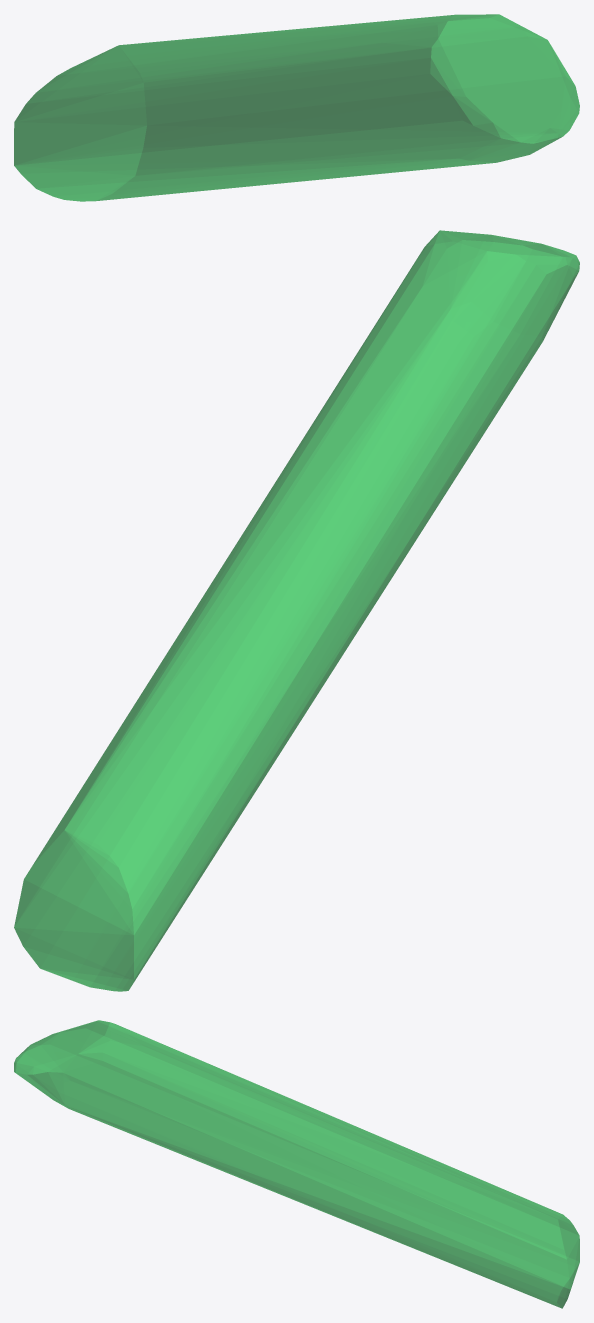
3 renders of one model, top to bottom at view 1: azimuth 30°, elevation 25°; view 2: azimuth 150°, elevation 25°; view 3: azimuth 270°, elevation 25°, orthographic. The views are drawn at different scales.
Parts seen in each view (by area): view 1: Shape_IndexedFaceSet.001_Shape_IndexedFaceSet.13520; view 2: Shape_IndexedFaceSet.001_Shape_IndexedFaceSet.13520; view 3: Shape_IndexedFaceSet.001_Shape_IndexedFaceSet.13520.
Boxes of the visible parts, bbox=[...] form: Shape_IndexedFaceSet.001_Shape_IndexedFaceSet.13520: bbox=[14, 14, 579, 201]; Shape_IndexedFaceSet.001_Shape_IndexedFaceSet.13520: bbox=[14, 230, 579, 991]; Shape_IndexedFaceSet.001_Shape_IndexedFaceSet.13520: bbox=[14, 1020, 579, 1308].
Bounding box in the file's own units: 0.186 × 0.6465 × 1.21.
